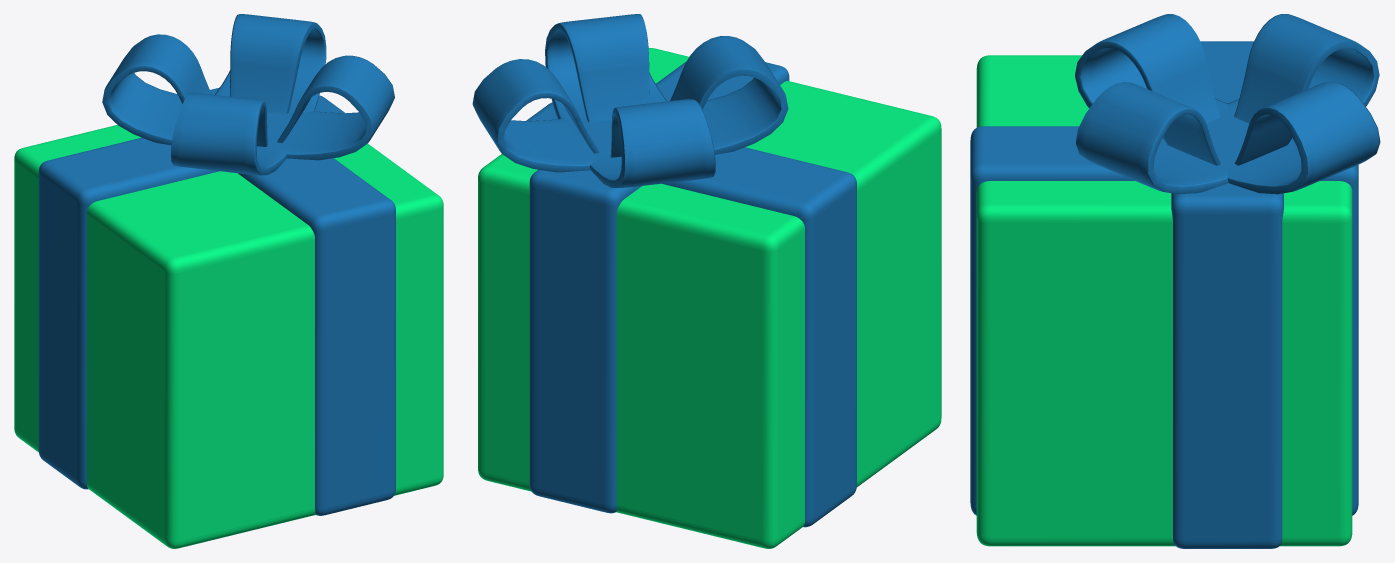
Rendered from Gifts.glb.
The picture shows the model from 3 angles, left to right: view 1: azimuth 30°, elevation 25°; view 2: azimuth 150°, elevation 25°; view 3: azimuth 270°, elevation 25°; orthographic projection. The views are drawn at different scales.
Visible parts, largest first — view 1: Box, Spline (×4), RibbonWidth, RibbonLength; view 2: Box, Spline (×4), RibbonWidth, RibbonLength; view 3: Box, Spline (×4), RibbonLength, RibbonWidth.
Boxes of the visible parts, bbox=[...] form: Box: bbox=[14, 125, 443, 548]; Spline (×4): bbox=[102, 14, 394, 175]; RibbonWidth: bbox=[210, 87, 395, 515]; RibbonLength: bbox=[38, 95, 345, 489]; Box: bbox=[478, 48, 941, 548]; Spline (×4): bbox=[472, 14, 788, 187]; RibbonWidth: bbox=[529, 61, 789, 513]; RibbonLength: bbox=[526, 102, 856, 527]; Box: bbox=[976, 55, 1352, 546]; Spline (×4): bbox=[1075, 14, 1380, 194]; RibbonLength: bbox=[1171, 41, 1283, 548]; RibbonWidth: bbox=[970, 126, 1358, 515].
Size of the model in its own units: 0.6549 by 0.7669 by 0.6549.
